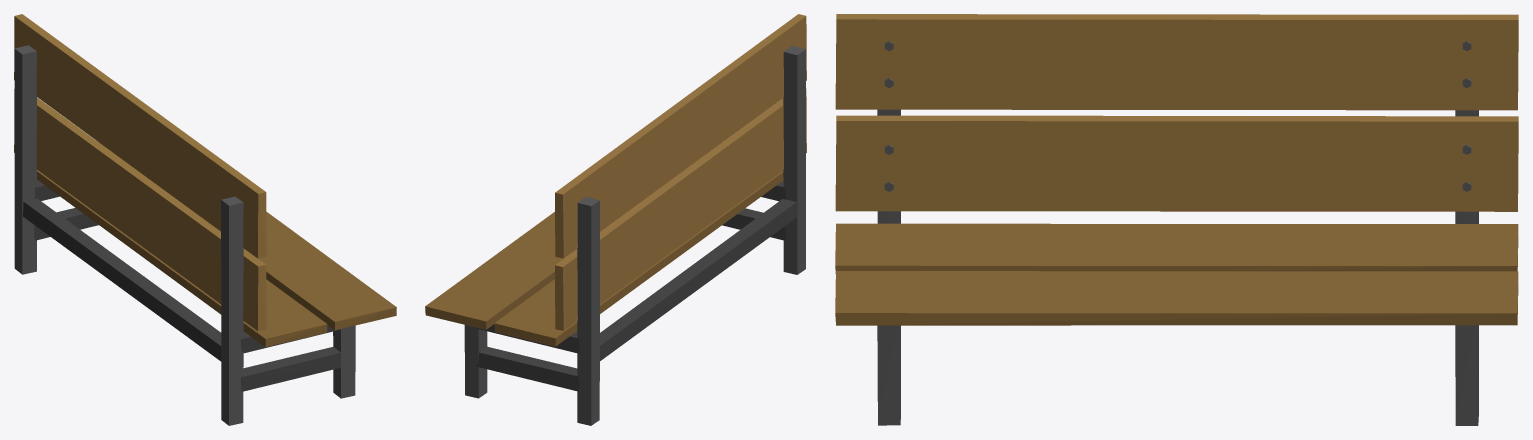
The model's file is bench.FBX.
3 views of the same model, side by side, from view 1: azimuth 30°, elevation 25°; view 2: azimuth 150°, elevation 25°; view 3: azimuth 270°, elevation 25° (orthographic). The views are drawn at different scales.
Parts seen in each view (by area): view 1: bench; view 2: bench; view 3: bench.
Boxes of the visible parts, bbox=[...] form: bench: bbox=[14, 14, 396, 425]; bench: bbox=[425, 14, 806, 425]; bench: bbox=[835, 14, 1518, 425].
Size of the model in its own units: 101 by 151 by 279.
